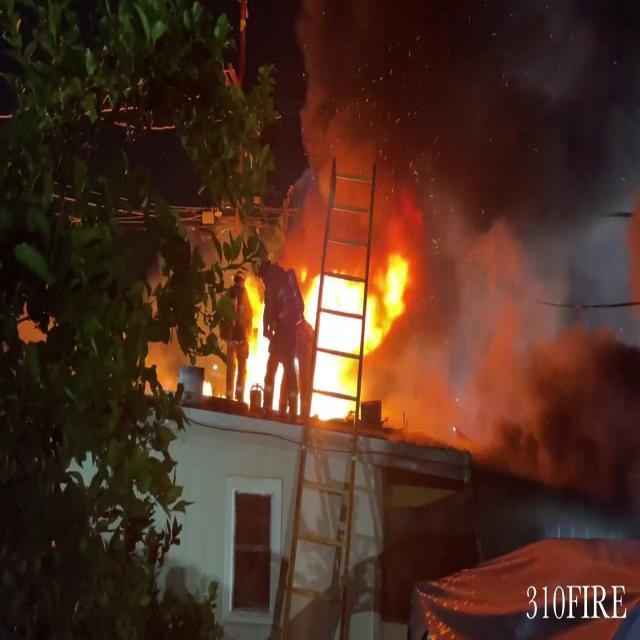Fire: (294, 249, 412, 422), (232, 270, 282, 410)
Smoke: (278, 0, 639, 244), (391, 182, 640, 517)
